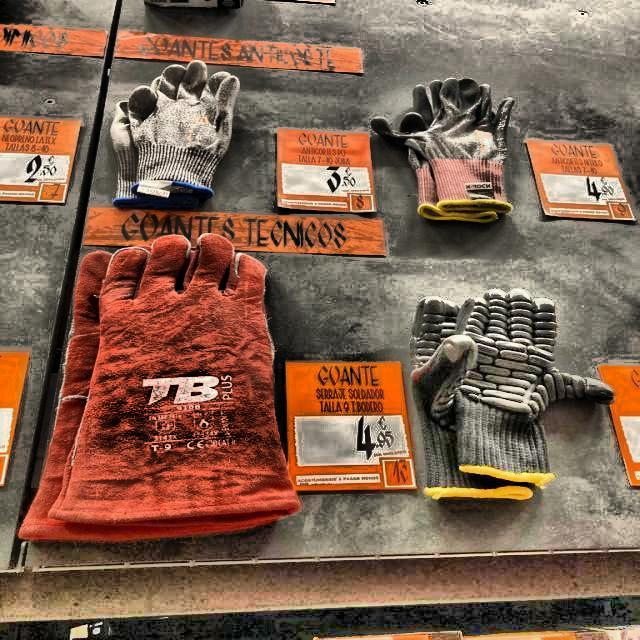gloved: (30, 231, 305, 539), (401, 281, 622, 503), (349, 71, 548, 235), (91, 43, 249, 223)
